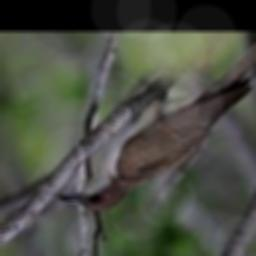Cuckoo: (56, 31, 256, 210)
